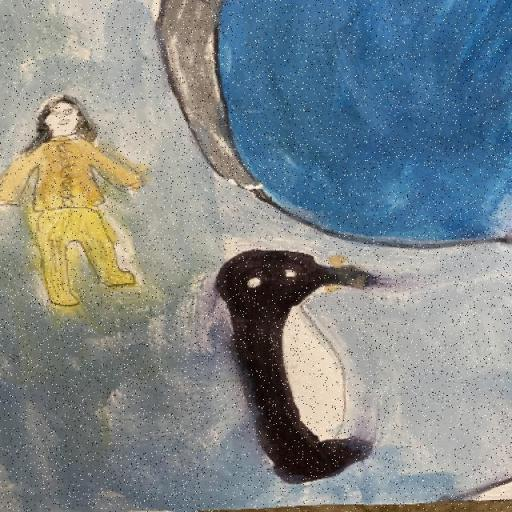person: (6, 94, 142, 308)
